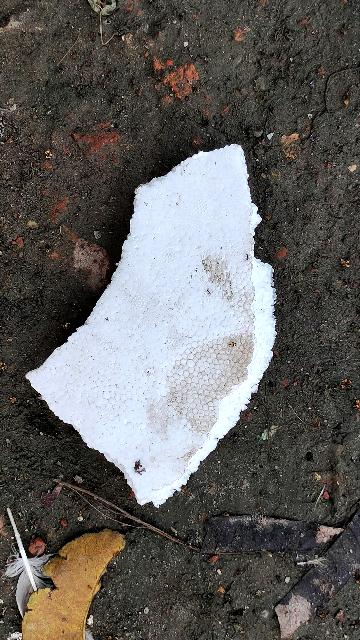cocksheet: (0, 148, 329, 505)
